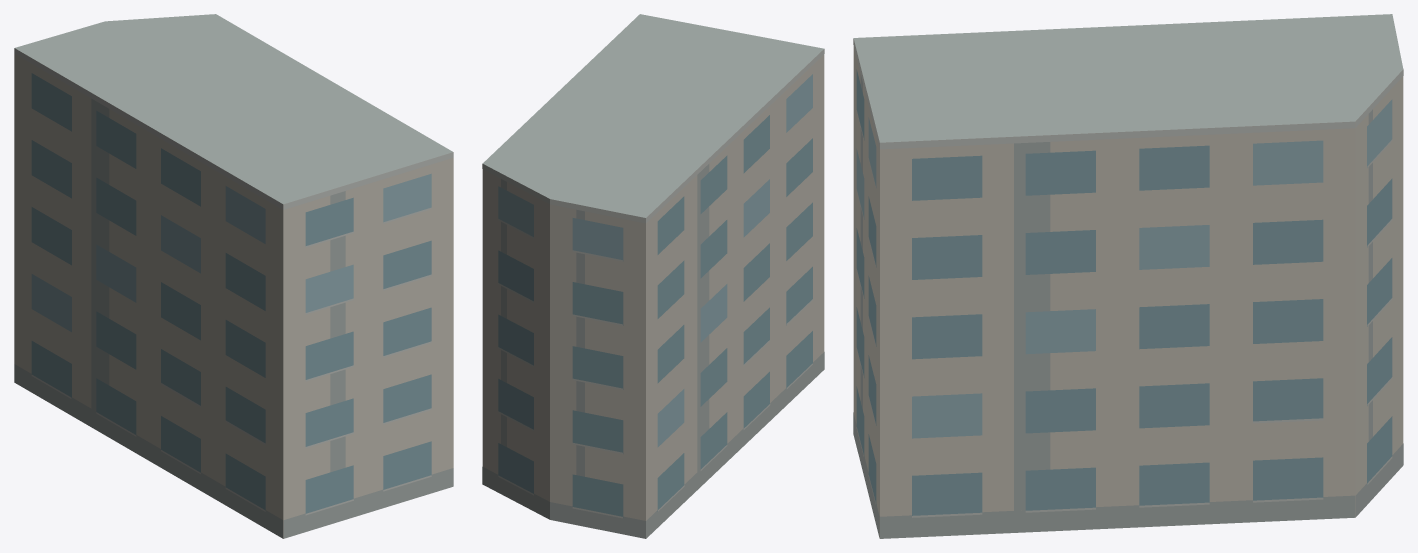
The model's file is survey-upis-32482018.glb.
3 renders of one model, left to right at view 1: azimuth 30°, elevation 25°; view 2: azimuth 150°, elevation 25°; view 3: azimuth 270°, elevation 25°, orthographic. The views are drawn at different scales.
Visible parts, largest first — view 1: survey-upis-32482018.tmp; view 2: survey-upis-32482018.tmp; view 3: survey-upis-32482018.tmp.
Boxes of the visible parts, <box> form: survey-upis-32482018.tmp: <box>14,14,453,538</box>; survey-upis-32482018.tmp: <box>482,14,824,538</box>; survey-upis-32482018.tmp: <box>853,14,1403,538</box>.
Size of the model in its own units: 10.04 by 14.4 by 18.13.
